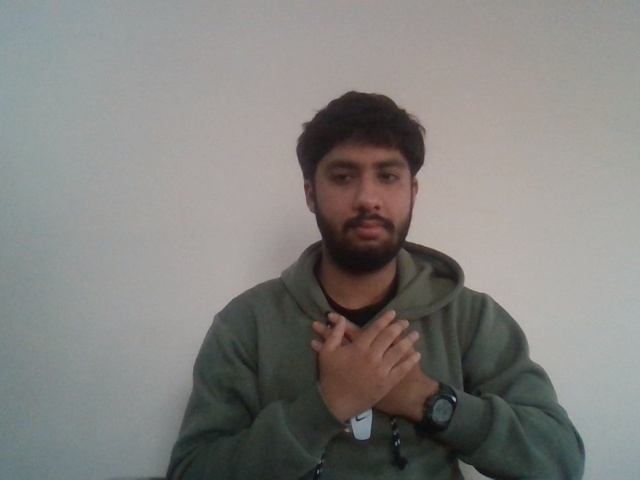Please: (297, 305, 451, 416)
